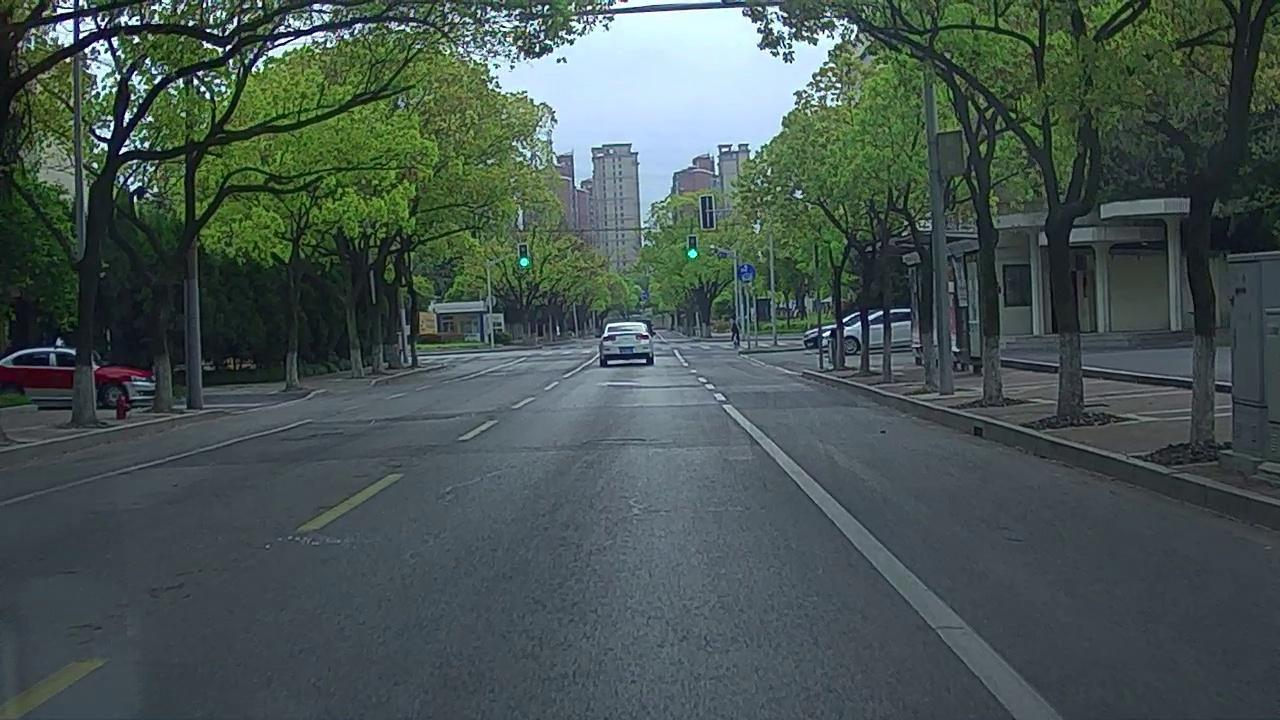traffic_light: (519, 243, 529, 269), (688, 236, 698, 260)
